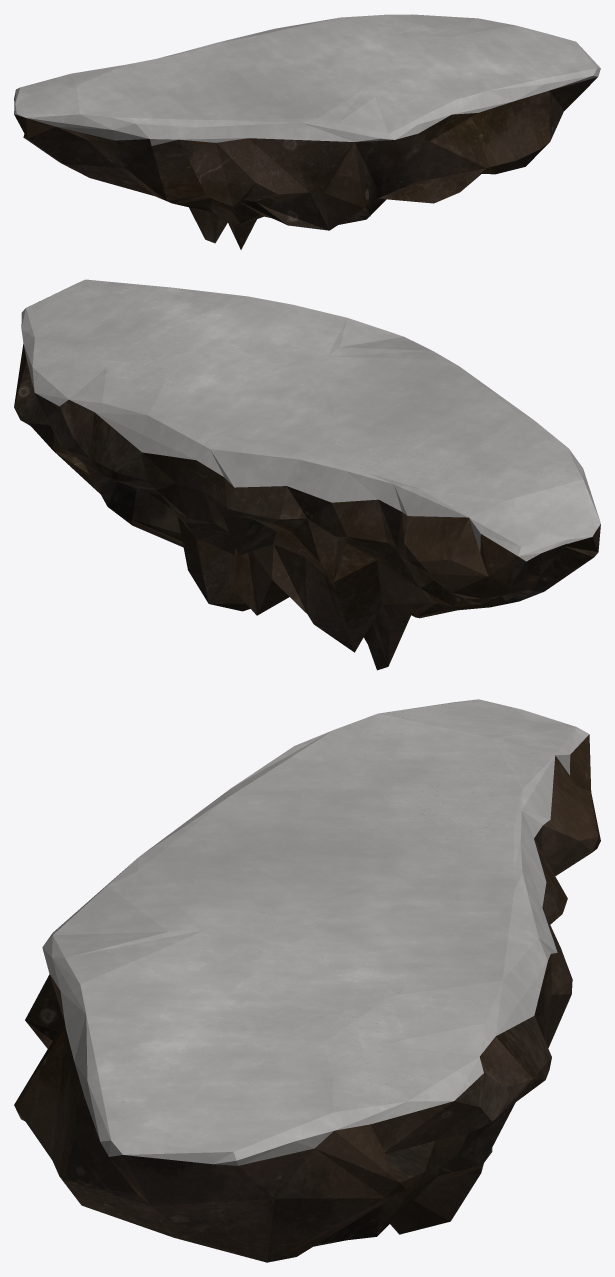
The model's file is maya_level_02.fbx.
3 renders of one model, top to bottom at view 1: azimuth 30°, elevation 25°; view 2: azimuth 150°, elevation 25°; view 3: azimuth 270°, elevation 25°, orthographic. The views are drawn at different scales.
Parts seen in each view (by area): view 1: maya_level_02; view 2: maya_level_02; view 3: maya_level_02.
Boxes of the visible parts, left/top/right/bottom form: maya_level_02: left=14, top=14, right=600, bottom=249; maya_level_02: left=14, top=279, right=600, bottom=670; maya_level_02: left=14, top=699, right=600, bottom=1262.
Size of the model in its own units: 5336 by 1788 by 2918.
